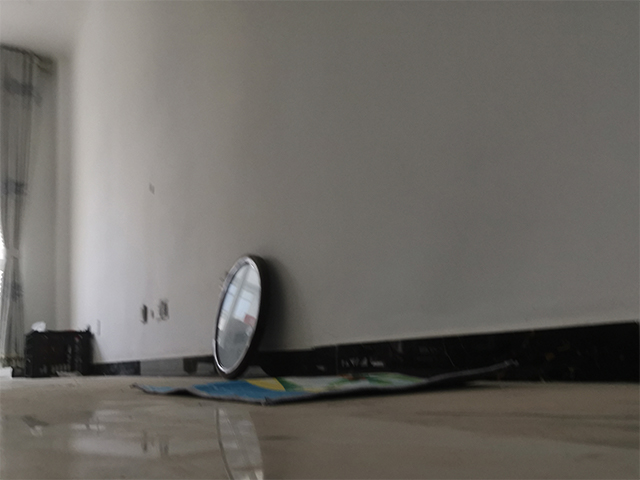carpet: (127, 356, 521, 407)
curtain: (1, 41, 56, 372)
